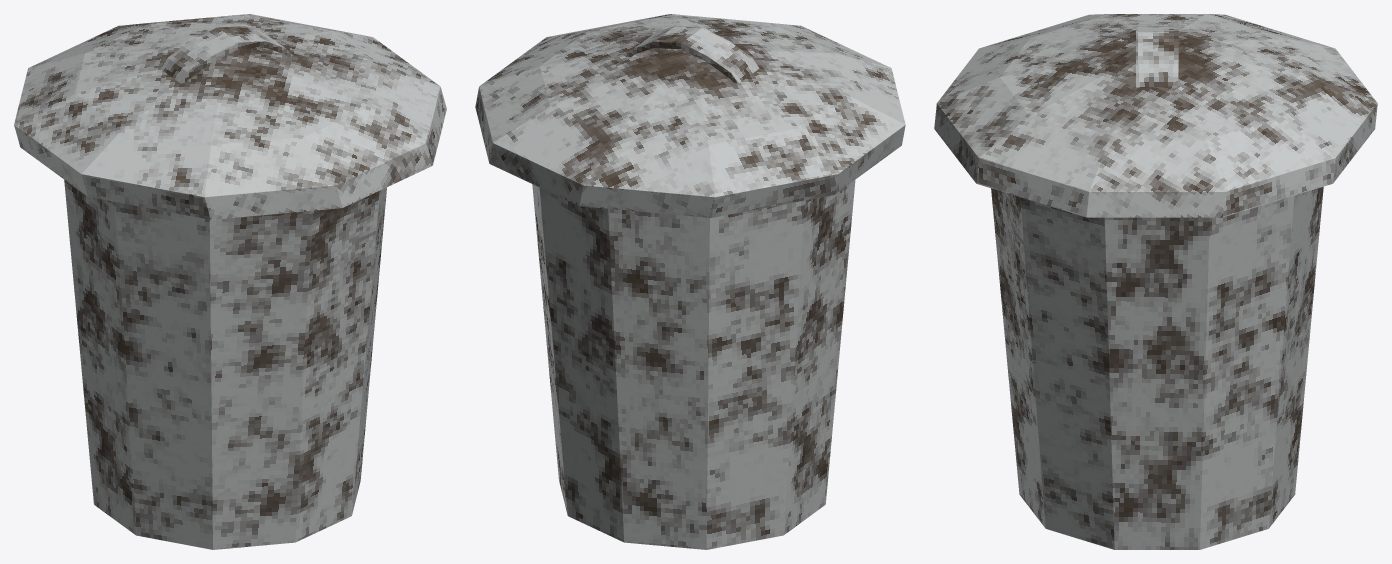
The model's file is Trashbin.glb.
3 views of the same model, side by side, from view 1: azimuth 30°, elevation 25°; view 2: azimuth 150°, elevation 25°; view 3: azimuth 270°, elevation 25° (orthographic).
Parts seen in each view (by area): view 1: Cylinder, Cylinder.001; view 2: Cylinder, Cylinder.001; view 3: Cylinder, Cylinder.001.
Boxes of the visible parts, bbox=[...] form: Cylinder: bbox=[64, 180, 386, 549]; Cylinder.001: bbox=[14, 14, 446, 219]; Cylinder: bbox=[532, 180, 855, 549]; Cylinder.001: bbox=[475, 14, 905, 217]; Cylinder: bbox=[991, 186, 1323, 549]; Cylinder.001: bbox=[934, 14, 1377, 217].
Size of the model in its own units: 1.47 by 1.76 by 1.53.
Materials: 1 (1 with a texture image).
